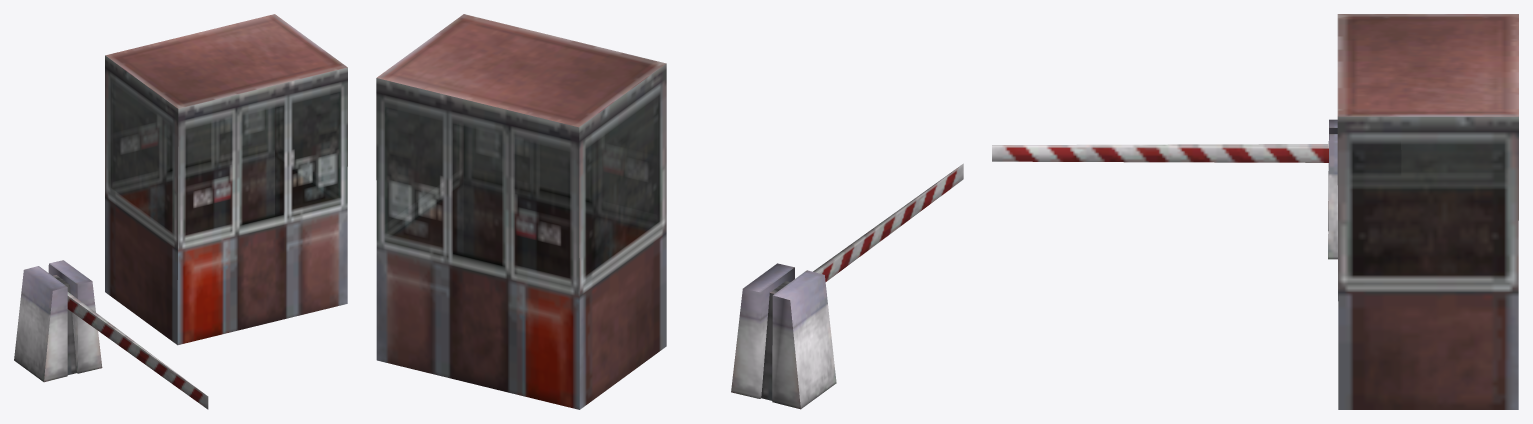
Rendered from Environment - Prop - Tollbooth - PMChkPnt.glb.
3 views of the same model, side by side, from view 1: azimuth 30°, elevation 25°; view 2: azimuth 150°, elevation 25°; view 3: azimuth 270°, elevation 25° (orthographic). The views are drawn at different scales.
Parts seen in each view (by area): view 1: PMCHKPNT; view 2: PMCHKPNT; view 3: PMCHKPNT.
Boxes of the visible parts, <box> form: PMCHKPNT: <box>14,14,347,409</box>; PMCHKPNT: <box>376,14,963,409</box>; PMCHKPNT: <box>992,14,1518,409</box>.
Bounding box in the file's own units: 23.16 × 17.01 × 27.67.
Materials: 1 (1 with a texture image).
